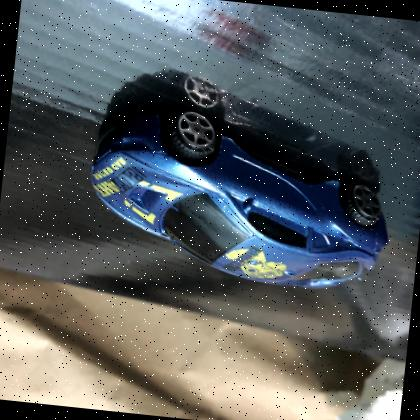Car: (90, 106, 389, 287)
